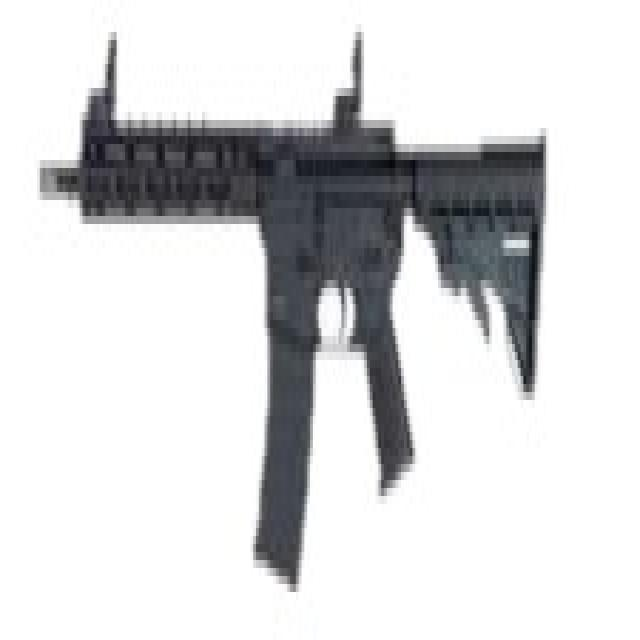rifle: (33, 19, 549, 592)
